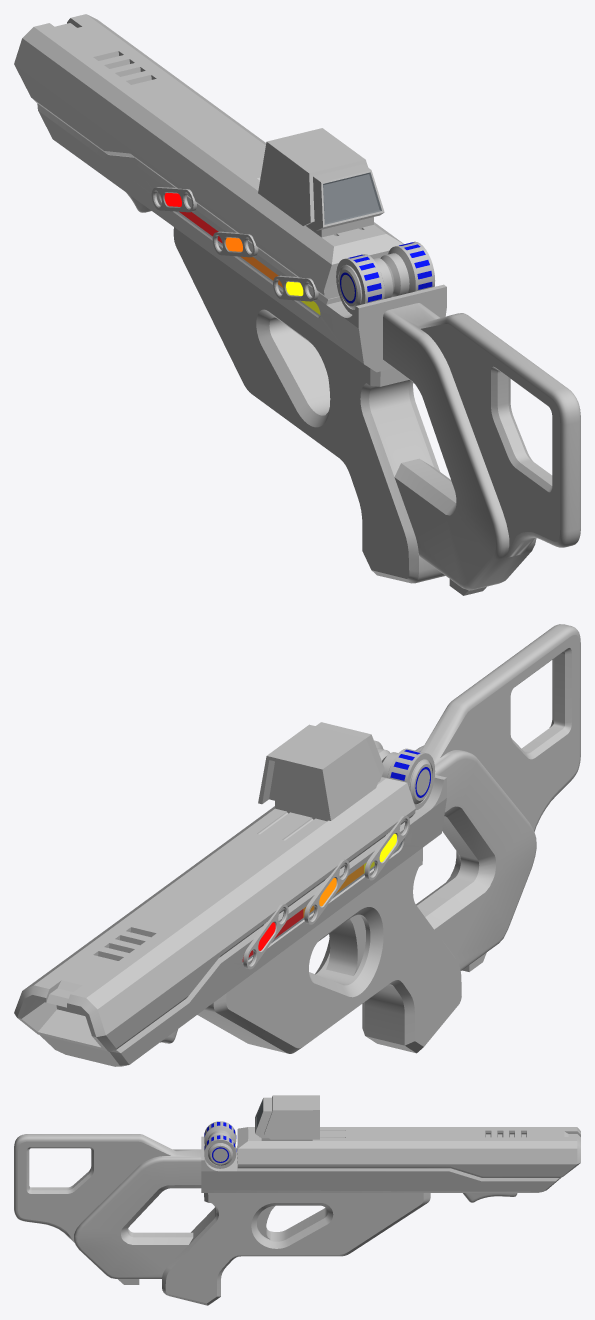
The model's file is gun_blockout_static.FBX.
The picture shows the model from 3 angles, top to bottom: view 1: azimuth 30°, elevation 25°; view 2: azimuth 150°, elevation 25°; view 3: azimuth 270°, elevation 25°; orthographic projection. The views are drawn at different scales.
Parts seen in each view (by area): view 1: Object059, gun_low, canon_breakable_part, Object062, jesaispas_low, sight_low002, sight_low, Object060, canon_plate_b_low, sight_low001, aucunes_idee_low_03, aucunes_idee_low_00 (+7 smaller); view 2: Object059, gun_low, Object062, canon_breakable_part, jesaispas_low, sight_low002, sight_low, canon_plate_b_low, Object060, trigger_low, ecroue_b_low, ecroue_c_low (+5 smaller); view 3: Object059, Object060, jesaispas_low, canon_breakable_part, Object062, sight_low002, canon_plate_a_low, sight_low, aucunes_idee_low_03, aucunes_idee_low_04, gun_low, aucunes_idee_low_00 (+2 smaller).
Part boxes in pixels (<box>): Object059: <box>383,303,580,595</box>; gun_low: <box>173,227,438,583</box>; canon_breakable_part: <box>154,117,403,298</box>; Object062: <box>14,14,236,174</box>; jesaispas_low: <box>37,103,446,372</box>; sight_low002: <box>258,128,368,225</box>; sight_low: <box>306,164,384,237</box>; Object060: <box>288,327,445,578</box>; canon_plate_b_low: <box>57,55,133,127</box>; sight_low001: <box>323,172,381,224</box>; aucunes_idee_low_03: <box>388,241,435,293</box>; aucunes_idee_low_00: <box>336,254,384,314</box>; Object059: <box>415,624,580,971</box>; gun_low: <box>202,848,461,1053</box>; Object062: <box>14,882,246,1051</box>; canon_breakable_part: <box>163,777,415,939</box>; jesaispas_low: <box>40,774,446,1066</box>; sight_low002: <box>258,724,380,820</box>; sight_low: <box>269,722,384,821</box>; canon_plate_b_low: <box>116,931,192,1003</box>; Object060: <box>197,938,396,1048</box>; trigger_low: <box>326,914,365,975</box>; ecroue_b_low: <box>304,859,349,924</box>; ecroue_c_low: <box>364,815,409,880</box>; Object059: <box>14,1134,201,1284</box>; Object060: <box>162,1193,430,1305</box>; jesaispas_low: <box>201,1136,561,1192</box>; canon_breakable_part: <box>237,1127,423,1168</box>; Object062: <box>423,1127,580,1177</box>; sight_low002: <box>264,1095,319,1139</box>; canon_plate_a_low: <box>482,1137,529,1164</box>; sight_low: <box>255,1097,312,1140</box>; aucunes_idee_low_03: <box>204,1134,236,1168</box>; aucunes_idee_low_04: <box>208,1143,233,1165</box>; gun_low: <box>191,1207,326,1236</box>; aucunes_idee_low_00: <box>204,1121,236,1144</box>.
Size of the model in its own units: 10.85 by 40.02 by 104.
